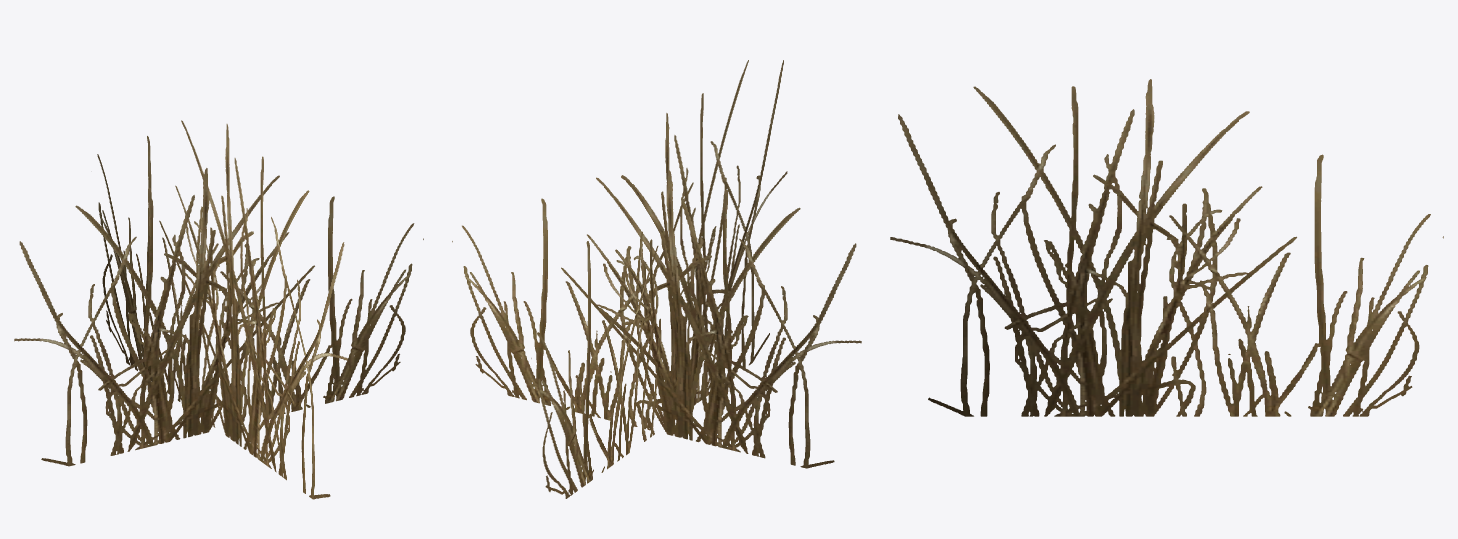
File: Vegetation_Deadgrass0101.glb
The picture shows the model from 3 angles, left to right: view 1: azimuth 30°, elevation 25°; view 2: azimuth 150°, elevation 25°; view 3: azimuth 270°, elevation 25°; orthographic projection. The views are drawn at different scales.
Visible parts, largest first — view 1: xiutz_deadgrass01_01; view 2: xiutz_deadgrass01_01; view 3: xiutz_deadgrass01_01.
Boxes of the visible parts, <box> form: xiutz_deadgrass01_01: <box>14,120,423,499</box>; xiutz_deadgrass01_01: <box>452,60,861,498</box>; xiutz_deadgrass01_01: <box>890,79,1443,416</box>.
Size of the model in its own units: 0.3966 by 0.2995 by 0.4301.
Materials: 1 (1 with a texture image).
